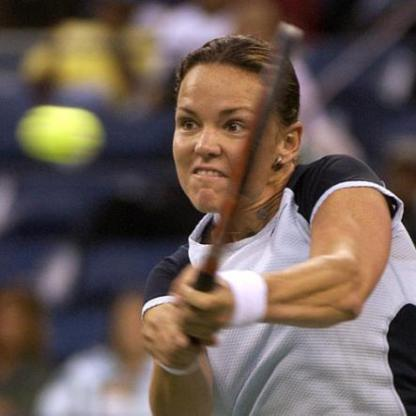face: (172, 42, 285, 218), (113, 296, 160, 361), (1, 294, 36, 352)
